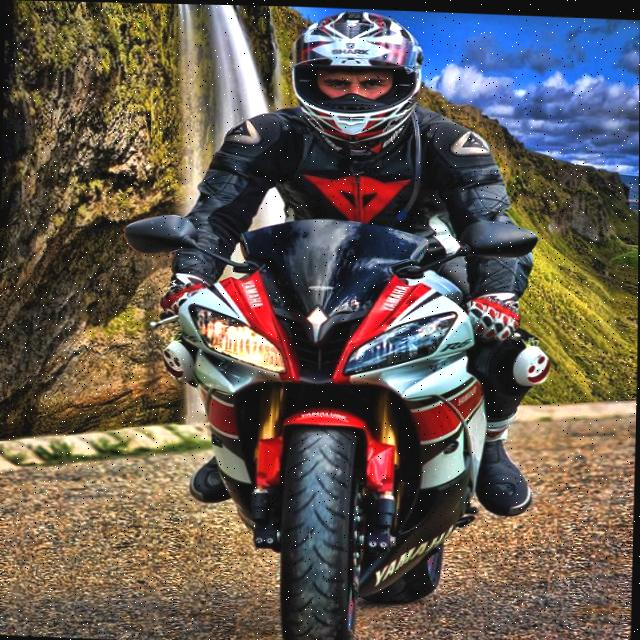motorcycle: (132, 198, 533, 640)
